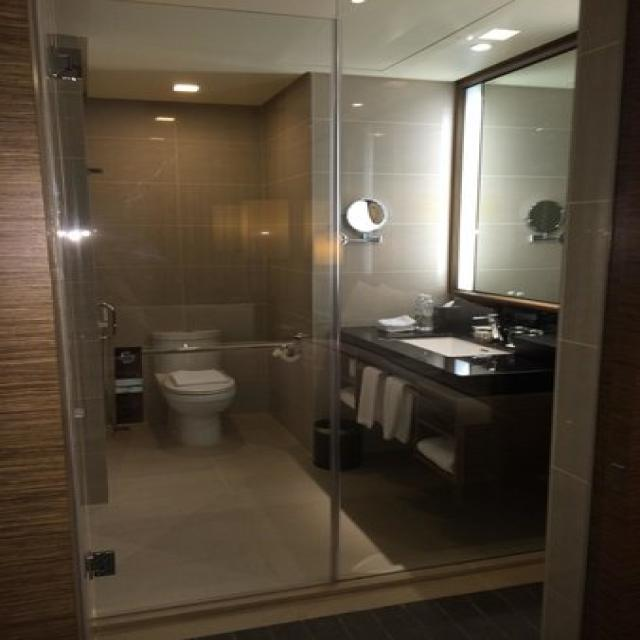door: (30, 1, 579, 629)
